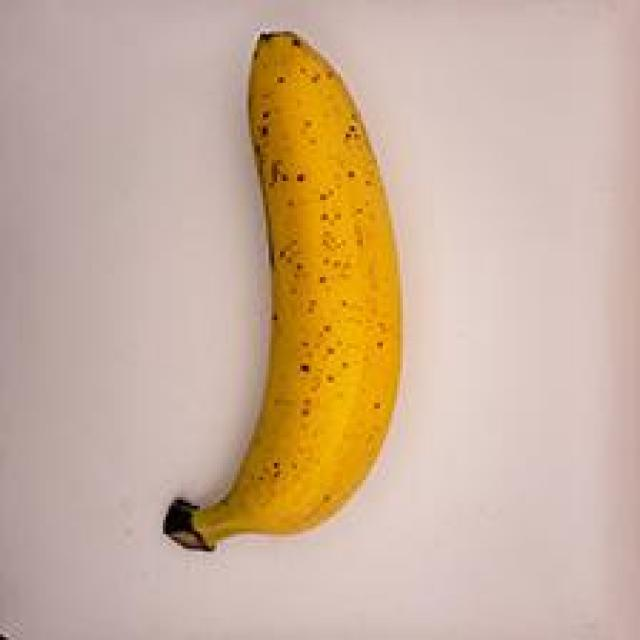Overripe: (101, 22, 437, 587)
